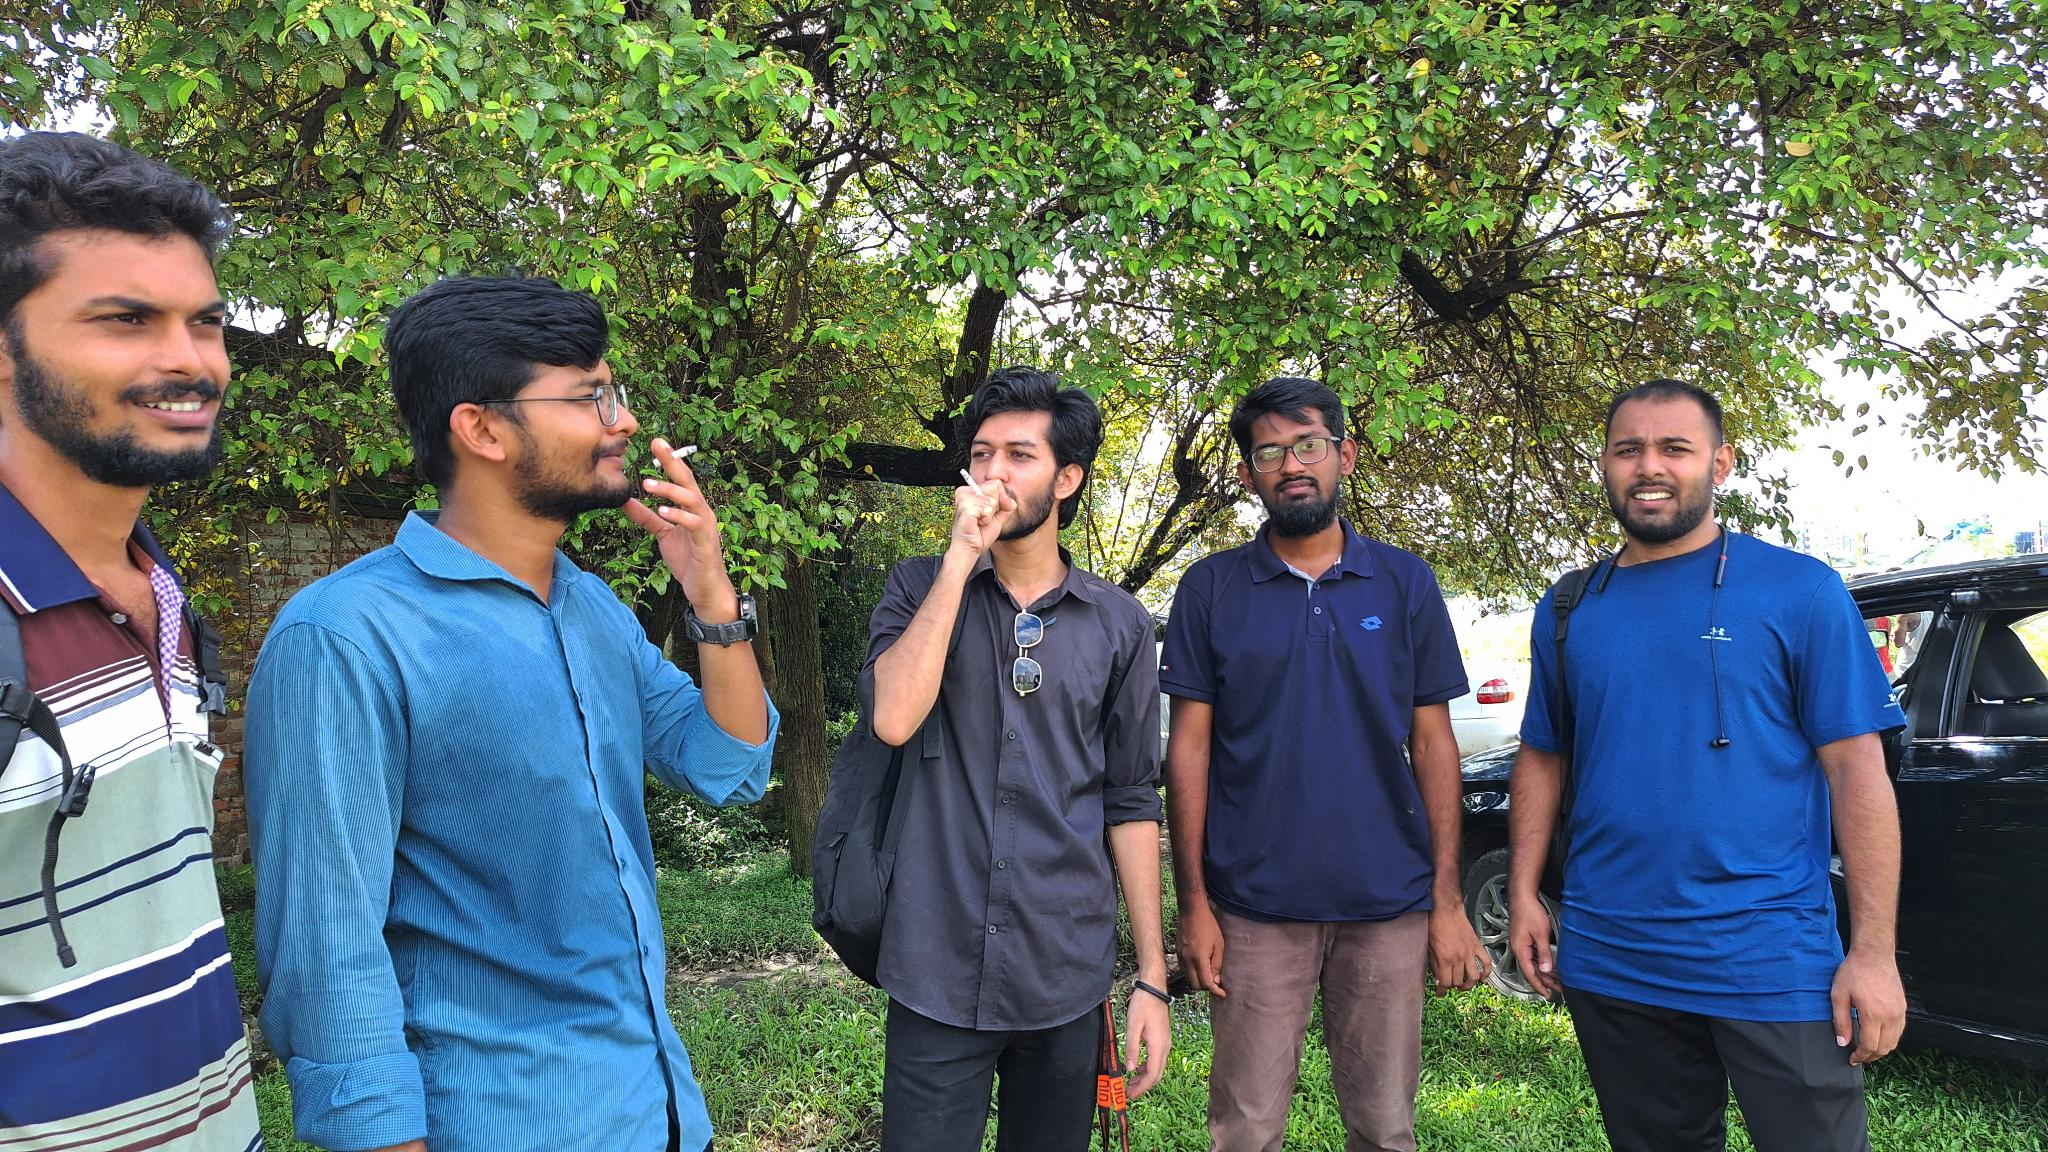cigarette: (650, 443, 699, 471), (958, 467, 986, 499)
nonSmoker: (1505, 381, 1912, 1152), (1162, 378, 1490, 1152), (0, 134, 242, 1152)
smoker: (249, 276, 781, 1152), (820, 364, 1175, 1152)
